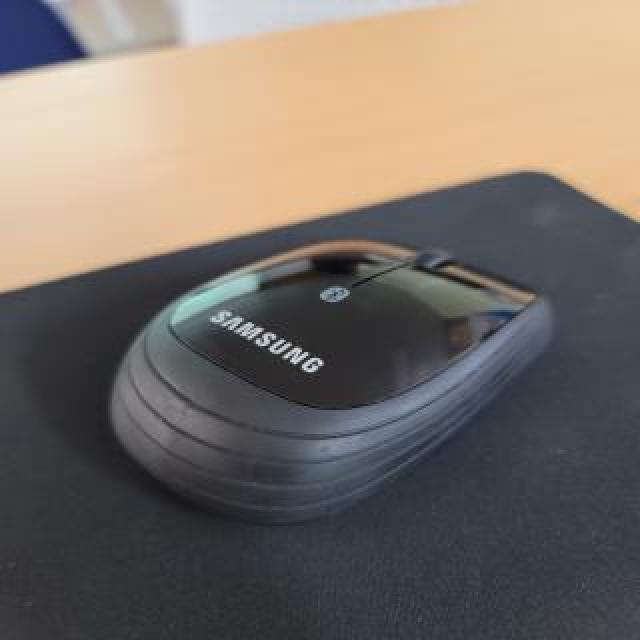mouse: (59, 161, 580, 528)
